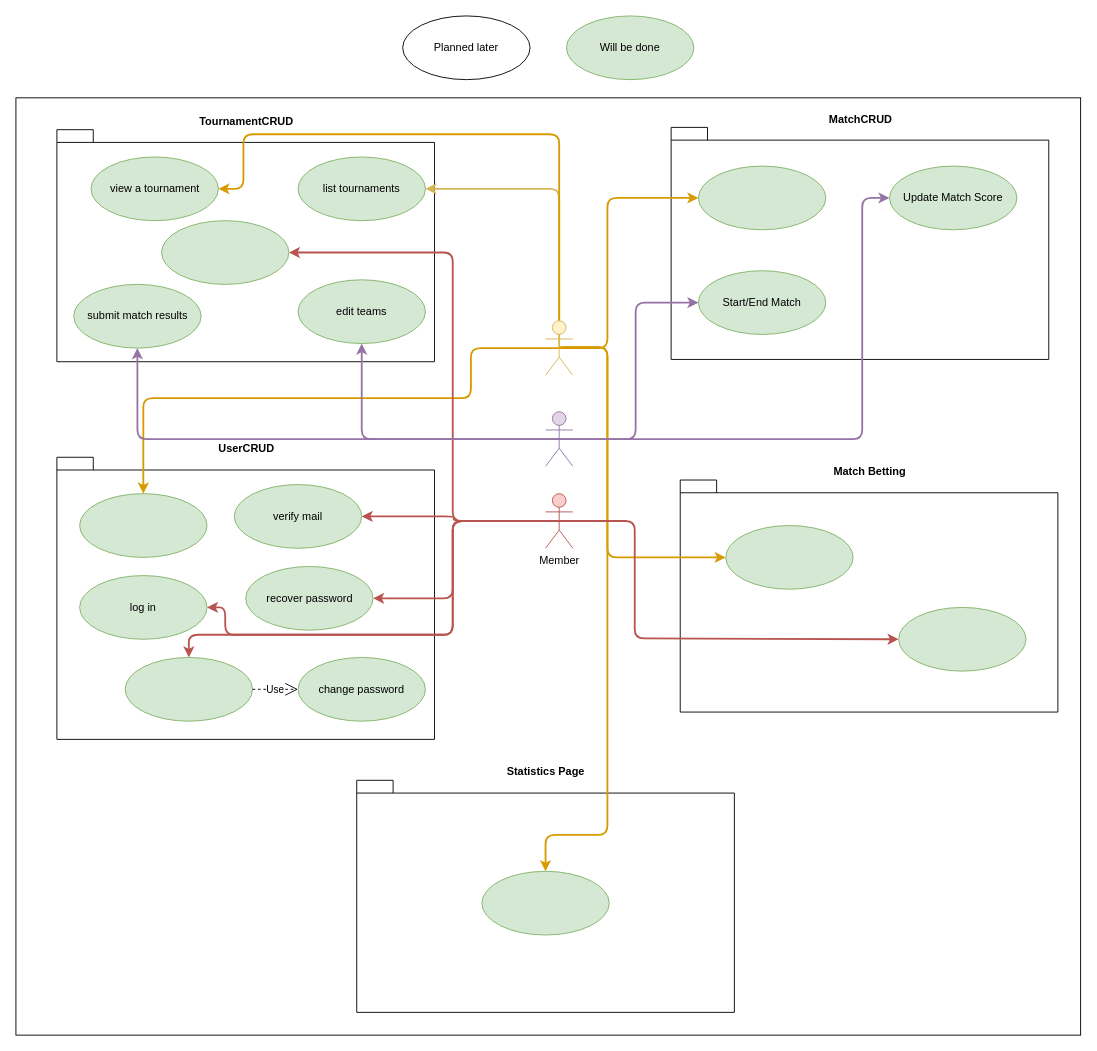
This 1097x1051 diagram has some shape labels left out. Each missing label, with the centre of its shape:
Bet on Match: pixel 962 639
create a tournament: pixel 225 252
edit profile: pixel 188 689
register: pixel 143 525
Tournament Owner: pixel 559 438
User: pixel 559 347
View Bets on Match: pixel 789 557
View Match: pixel 762 197
View Statistics for tournament: pixel 545 902
